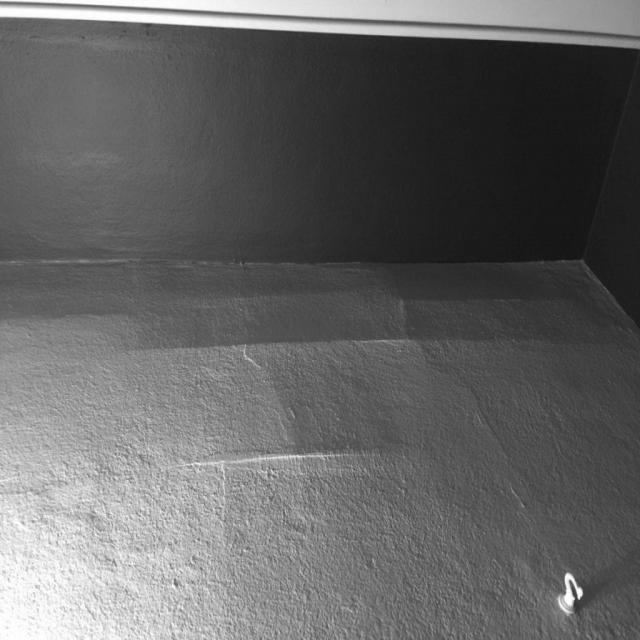trowels marks: (149, 428, 423, 526), (444, 374, 538, 523), (389, 280, 547, 332), (338, 332, 472, 372), (215, 331, 284, 378)
